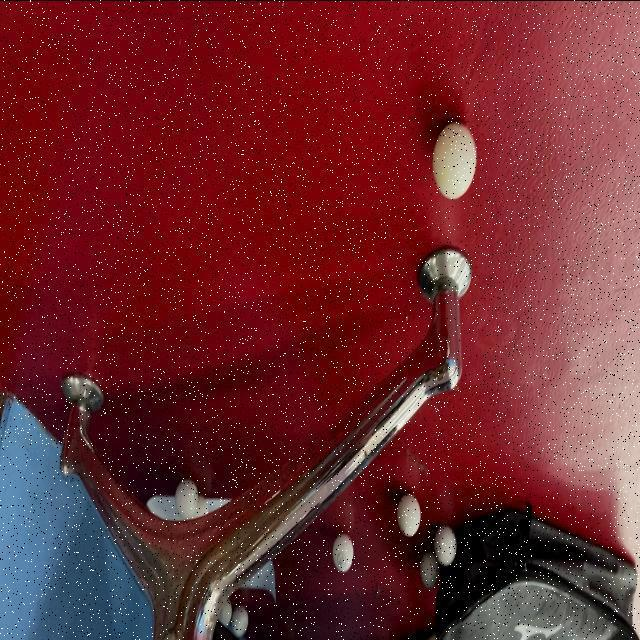ping-pong-ball: (432, 119, 478, 201), (396, 490, 422, 537), (433, 522, 458, 566), (174, 478, 200, 520), (331, 531, 356, 572), (418, 548, 442, 588), (230, 602, 250, 638)
